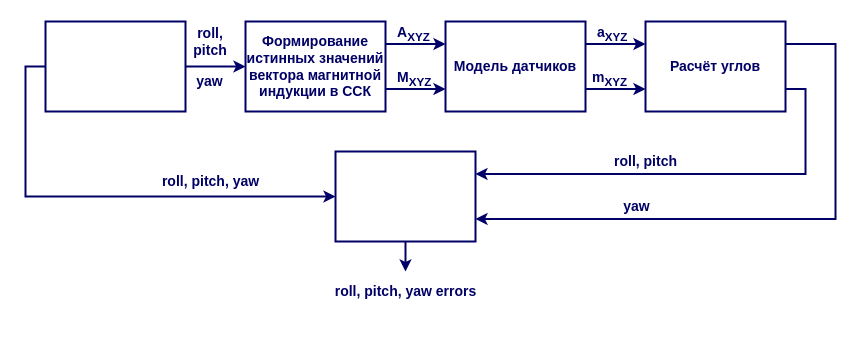
This 861x345 diagram has some shape labels left out. Each missing label, with the centre of its shape:
"Вычисление ошибок" belongs at (405,196).
"Формирование истинных углов в ССК" belongs at (115,66).
